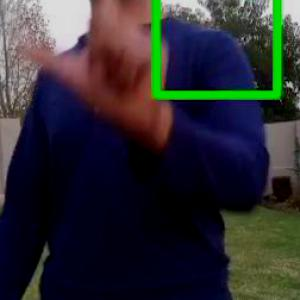land_hand: (20, 0, 181, 154)
